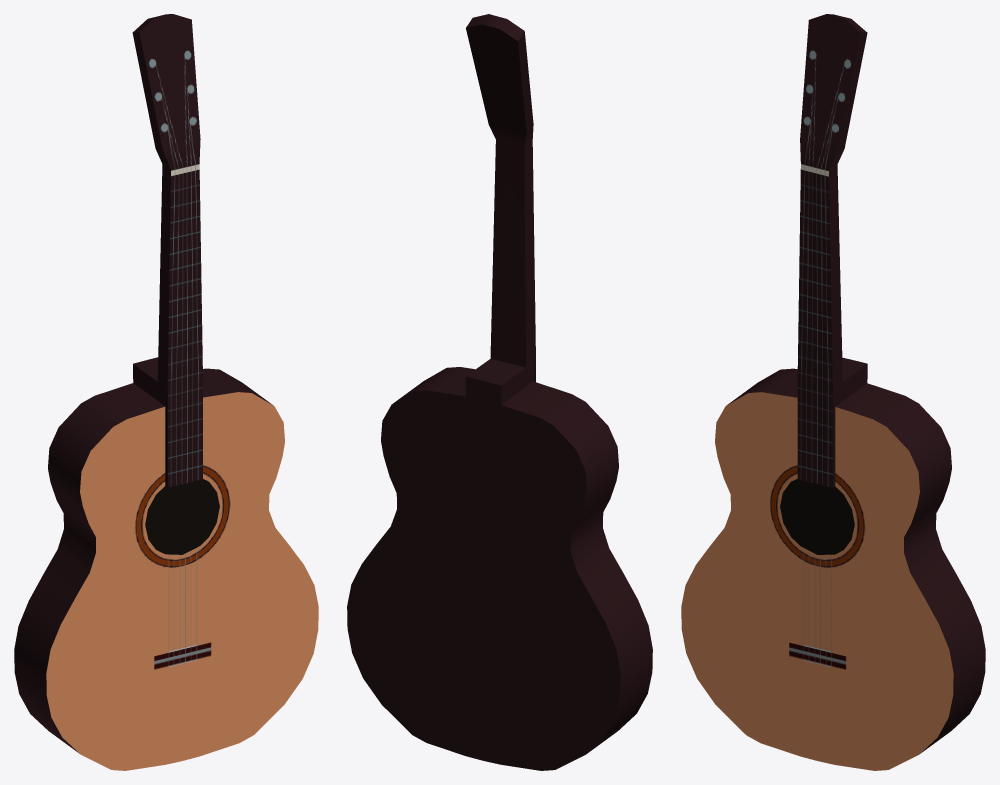
Rendered from fbx_guitar.fbx.
The picture shows the model from 3 angles, left to right: view 1: azimuth 30°, elevation 25°; view 2: azimuth 150°, elevation 25°; view 3: azimuth 330°, elevation 25°; orthographic projection.
Parts seen in each view (by area): view 1: fbx_guitar; view 2: fbx_guitar; view 3: fbx_guitar.
Part boxes in pixels (x1=…): fbx_guitar: x1=14, y1=14, x2=318, y2=770; fbx_guitar: x1=347, y1=14, x2=652, y2=770; fbx_guitar: x1=681, y1=14, x2=985, y2=770.
Size of the model in its own units: 0.9707 by 2.49 by 0.2153.
1 material, 1 textured.
